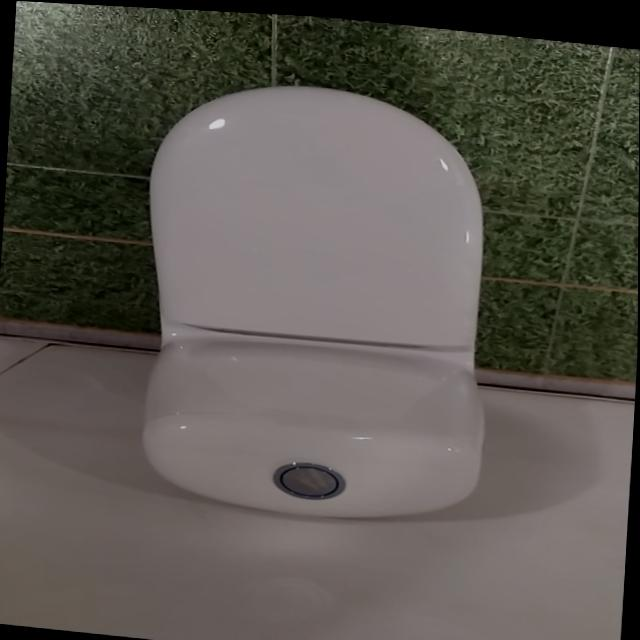toilet: (121, 61, 514, 538)
